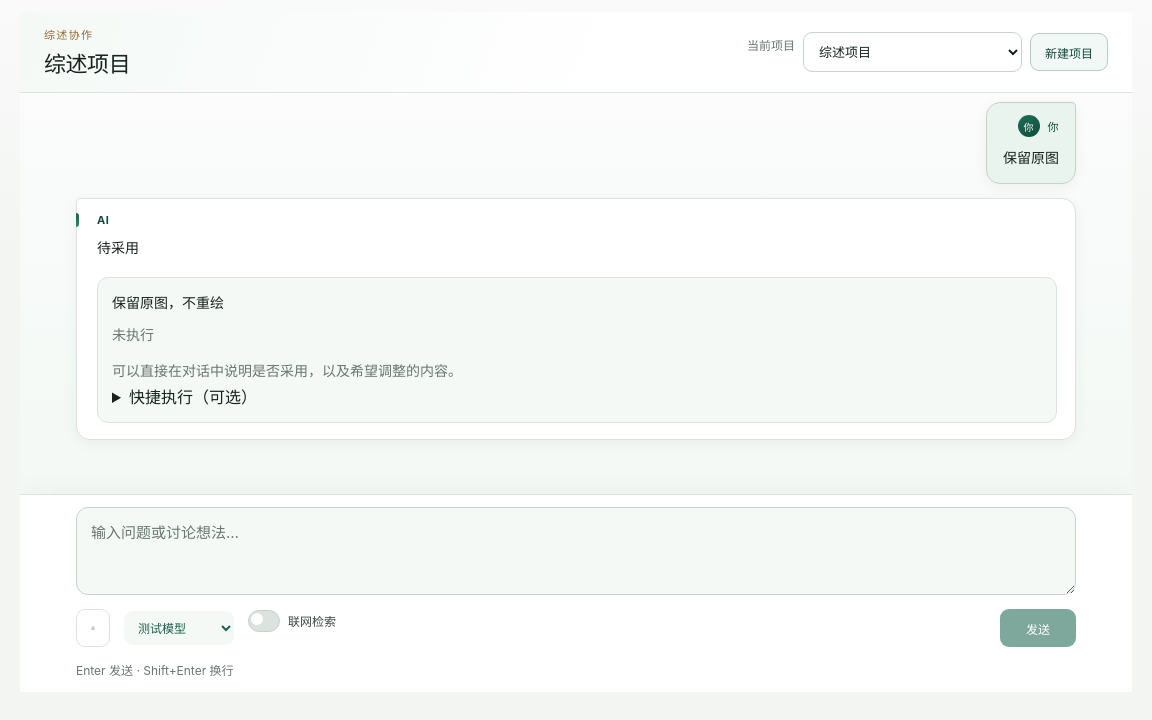
Test case: project conversation › does not adopt a proposal from a failed turn
The width and height of the screenshot is (1152, 720).
(page scrolled)
Step 1. Click the heading "快捷执行（可选）" → {"x": 193, "y": 397}, box [129,387,257,407]
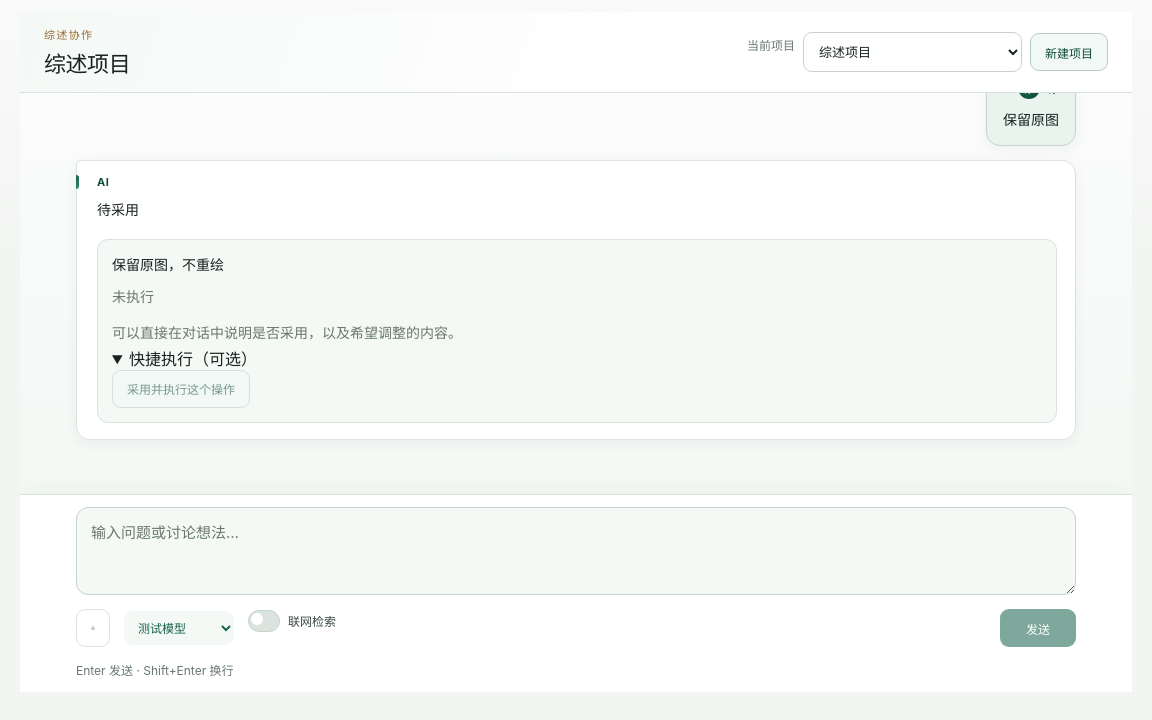
Check: the button "采用并执行这个操作" is disabled, box [112,370,250,408]
